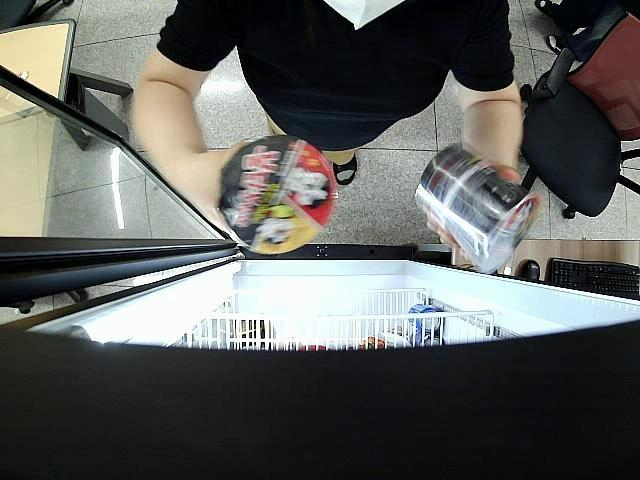08_buldak_S: (413, 142, 541, 274), (220, 136, 335, 252)
